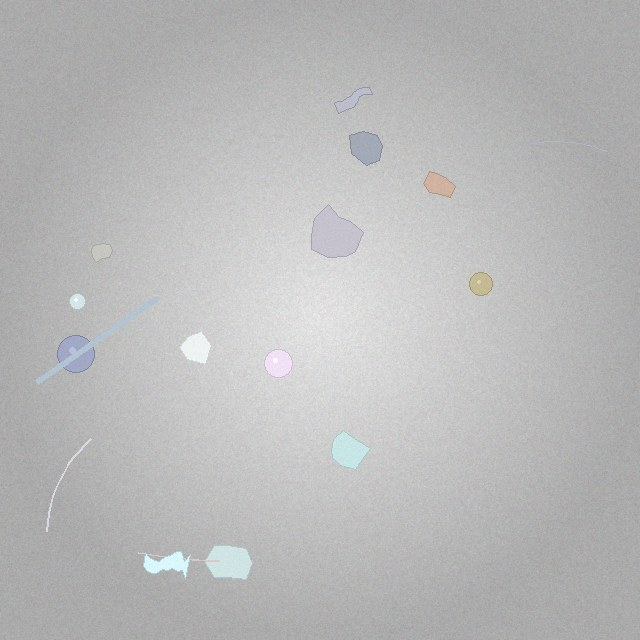fiber: (30, 293, 163, 389), (43, 436, 94, 534), (136, 550, 222, 563), (524, 140, 609, 153)
film: (143, 551, 191, 580), (334, 87, 373, 113)
fragment: (311, 205, 363, 258), (204, 545, 253, 580), (332, 431, 370, 469), (349, 132, 383, 165), (179, 332, 212, 364), (424, 171, 455, 197), (91, 244, 112, 263)
pellet: (58, 336, 95, 373), (264, 350, 293, 378), (470, 273, 493, 295), (70, 294, 86, 310)
